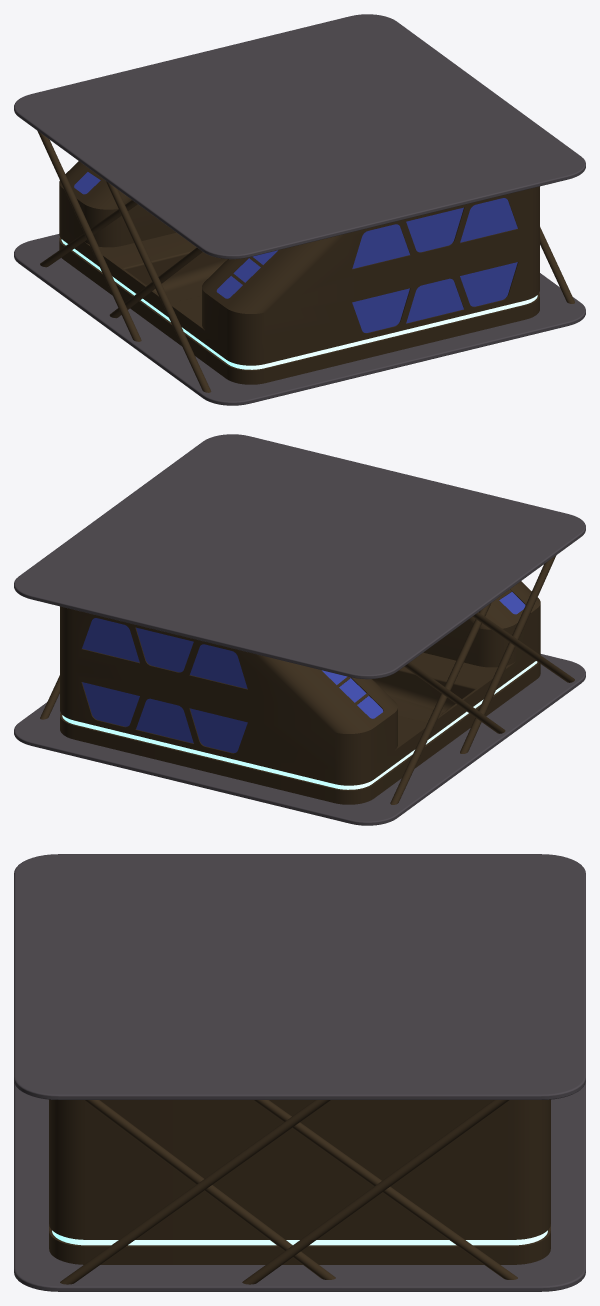
The model's file is SM_B_i0_roof_flor.fbx.
The picture shows the model from 3 angles, top to bottom: view 1: azimuth 30°, elevation 25°; view 2: azimuth 150°, elevation 25°; view 3: azimuth 270°, elevation 25°; orthographic projection. The views are drawn at different scales.
Visible parts, largest first — view 1: Bild0_roof_flor; view 2: Bild0_roof_flor; view 3: Bild0_roof_flor.
Boxes of the visible parts, x1,y1,x2,y2 form: Bild0_roof_flor: [14, 14, 585, 405]; Bild0_roof_flor: [14, 434, 585, 825]; Bild0_roof_flor: [14, 854, 585, 1291].
Size of the model in its own units: 1840 by 699 by 1840.
